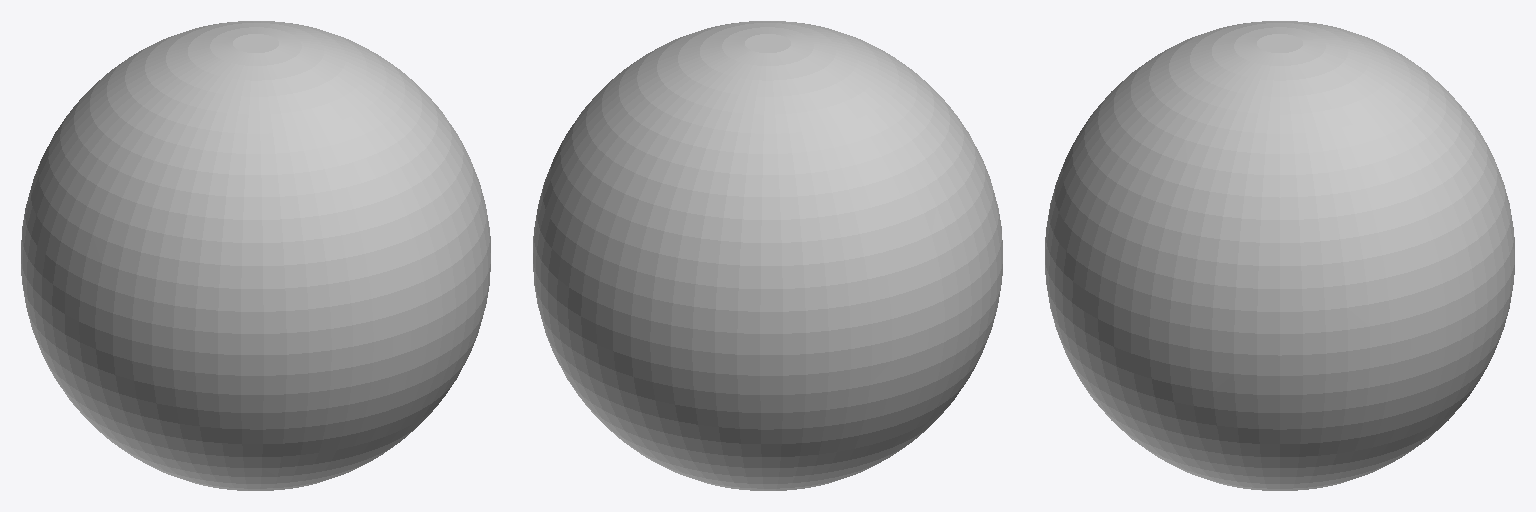
Rendered from ball3.obj.
3 views of the same model, side by side, from view 1: azimuth 30°, elevation 25°; view 2: azimuth 150°, elevation 25°; view 3: azimuth 270°, elevation 25° (orthographic).
Visible parts, largest first — view 1: planet_Sphere.003; view 2: planet_Sphere.003; view 3: planet_Sphere.003.
Boxes of the visible parts, x1=… form: planet_Sphere.003: x1=21, y1=21, x2=490, y2=490; planet_Sphere.003: x1=533, y1=21, x2=1002, y2=490; planet_Sphere.003: x1=1045, y1=21, x2=1514, y2=490.
Size of the model in its own units: 0.2214 by 0.2204 by 0.2214.